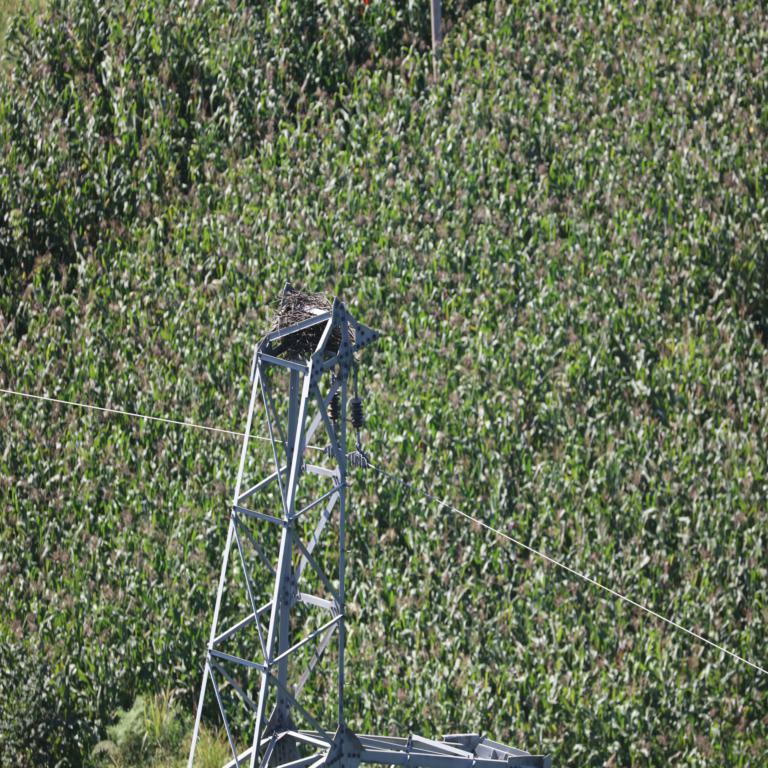nest: (279, 291, 345, 356)
